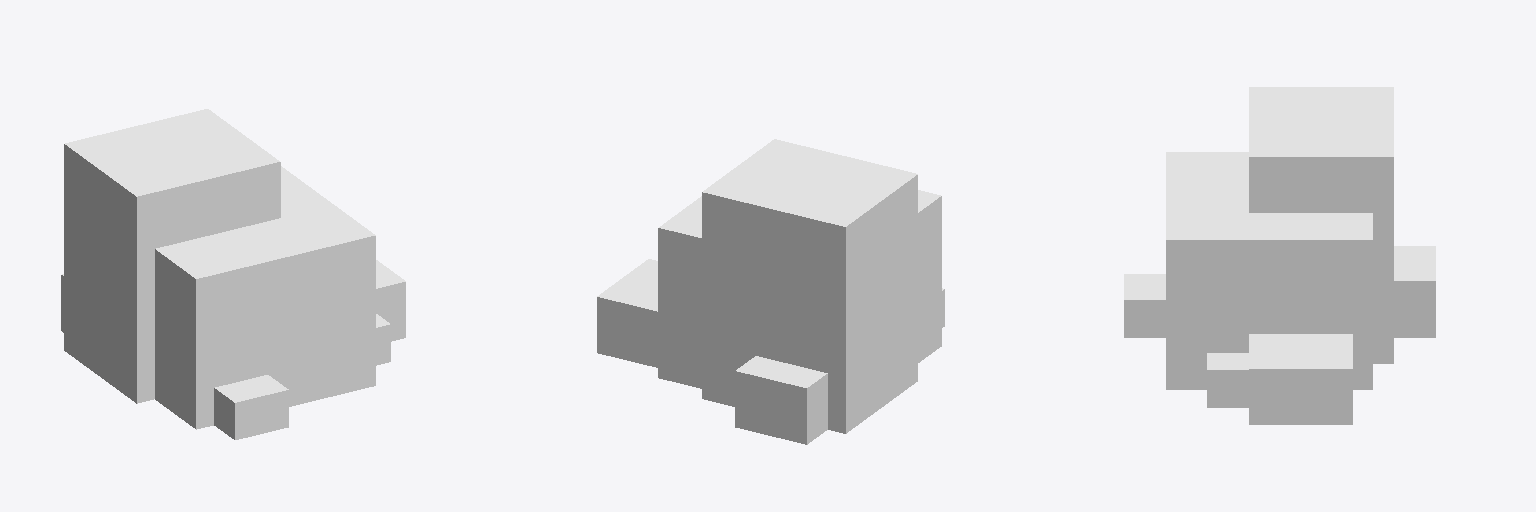
The model's file is stone_001.obj.
3 renders of one model, left to right at view 1: azimuth 30°, elevation 25°; view 2: azimuth 150°, elevation 25°; view 3: azimuth 270°, elevation 25°, orthographic.
Parts seen in each view (by area): view 1: object 1; view 2: object 1; view 3: object 1.
Part boxes in pixels (left/top/right/bottom): object 1: left=61, top=109, right=405, bottom=439; object 1: left=597, top=139, right=944, bottom=444; object 1: left=1124, top=87, right=1435, bottom=424.
Size of the model in its own units: 1.5 by 1.1 by 1.5.